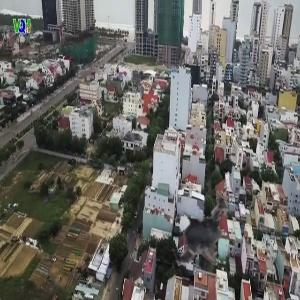drone: (150, 186, 250, 286)
